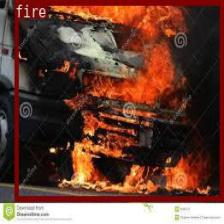fire: (14, 0, 222, 200)
